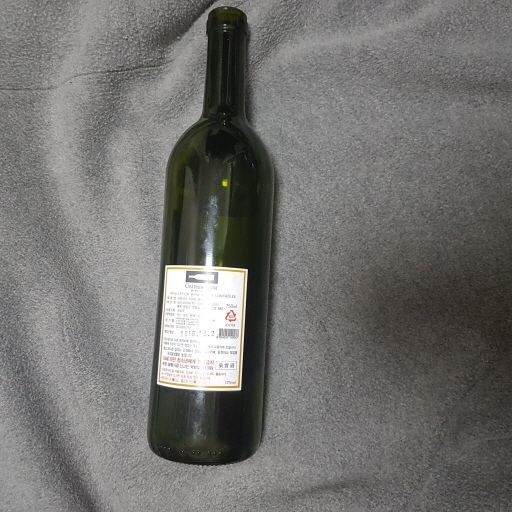Glass_2: (139, 5, 276, 468)
